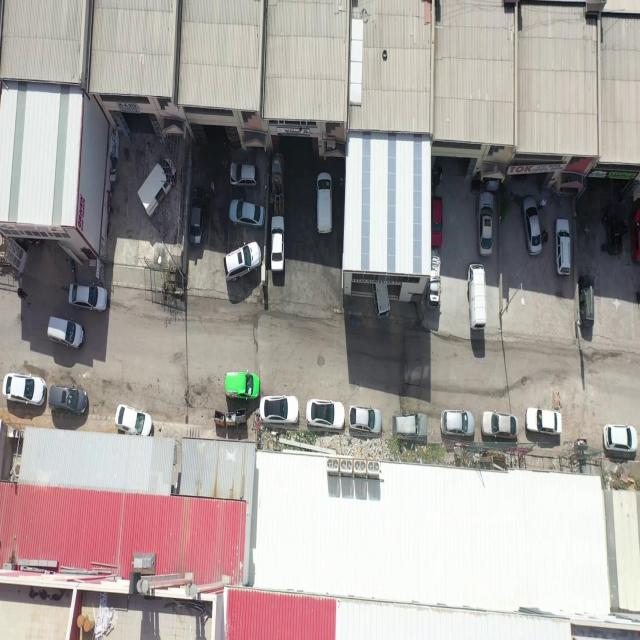p3rson: (600, 210, 609, 226), (17, 288, 28, 300), (66, 258, 74, 272), (542, 224, 551, 234), (540, 197, 546, 211), (542, 233, 548, 245), (211, 182, 216, 196), (623, 227, 628, 236)
